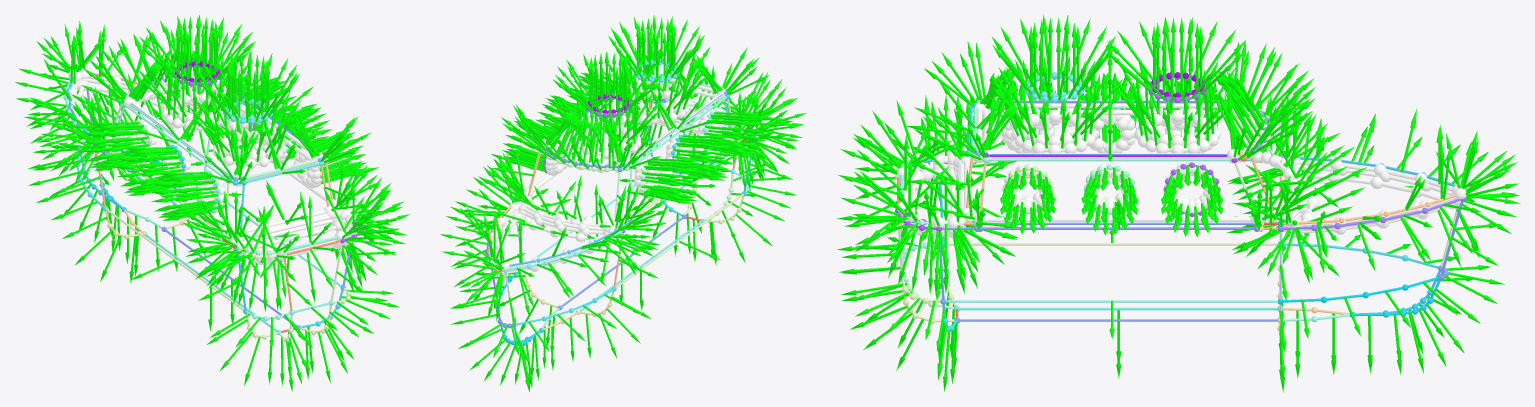
File: onshape_boat.gltf
3 renders of one model, left to right at view 1: azimuth 30°, elevation 25°; view 2: azimuth 150°, elevation 25°; view 3: azimuth 270°, elevation 25°, orthographic. The views are drawn at different scales.
Bounding box in the file's own units: 0.4429 × 0.593 × 1.06.
